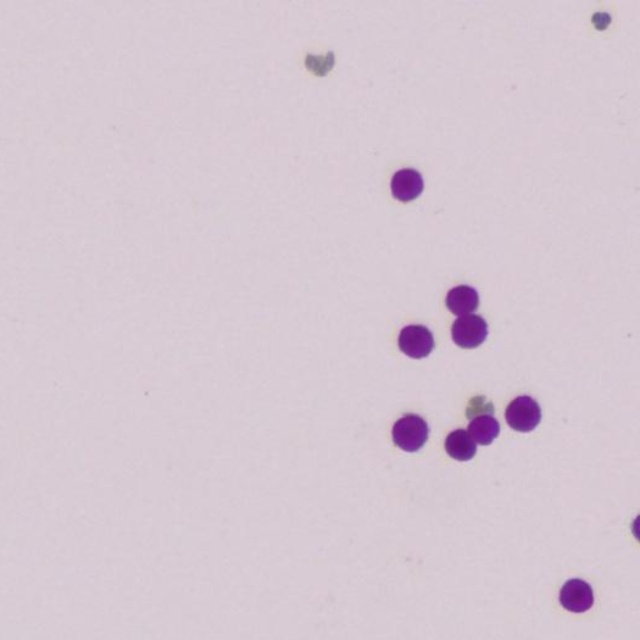non_viable: (466, 395, 492, 419), (590, 11, 611, 30)
viable: (393, 414, 428, 451), (506, 396, 540, 430), (399, 324, 433, 357), (451, 315, 486, 347), (391, 168, 422, 201), (562, 578, 592, 612), (468, 414, 499, 445), (446, 285, 478, 315), (445, 429, 475, 460), (631, 516, 639, 540)
